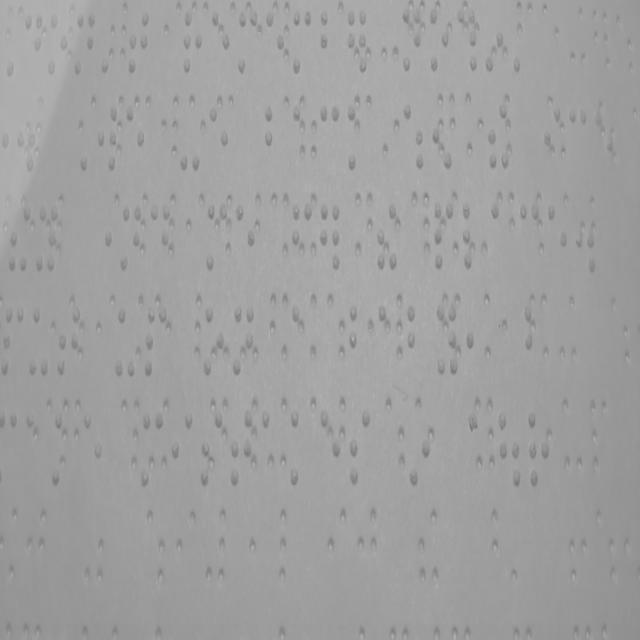braiile: (346, 402, 374, 497), (230, 296, 258, 386), (138, 404, 166, 494), (200, 404, 227, 494), (228, 398, 254, 491), (317, 402, 343, 493), (170, 406, 196, 496), (1, 299, 26, 391), (146, 192, 172, 280), (258, 404, 284, 492), (526, 409, 552, 496), (376, 300, 401, 390), (32, 200, 59, 282), (142, 299, 168, 384), (348, 296, 372, 388), (434, 294, 459, 382), (396, 0, 423, 81), (516, 196, 542, 280), (57, 296, 83, 380), (50, 406, 76, 490), (288, 402, 312, 493), (289, 298, 313, 388), (290, 196, 315, 281), (546, 192, 570, 280), (426, 0, 452, 80), (203, 196, 229, 276), (406, 294, 428, 388), (235, 2, 259, 88), (262, 93, 286, 179), (80, 406, 104, 492), (590, 98, 615, 180), (22, 406, 46, 490), (524, 299, 548, 382), (201, 300, 223, 390), (116, 304, 139, 390), (290, 1, 314, 82), (28, 303, 52, 384), (232, 196, 256, 276), (209, 6, 233, 85), (182, 0, 204, 86), (318, 98, 341, 180), (461, 192, 484, 274), (124, 96, 148, 174), (97, 100, 120, 181), (432, 194, 455, 275), (264, 8, 288, 85), (318, 4, 342, 81), (290, 104, 314, 181), (540, 98, 563, 178), (489, 196, 512, 276), (72, 8, 95, 84), (207, 100, 229, 179), (120, 196, 141, 278), (346, 98, 368, 176), (566, 98, 588, 175), (126, 9, 148, 82), (21, 8, 42, 80), (48, 13, 68, 79)
